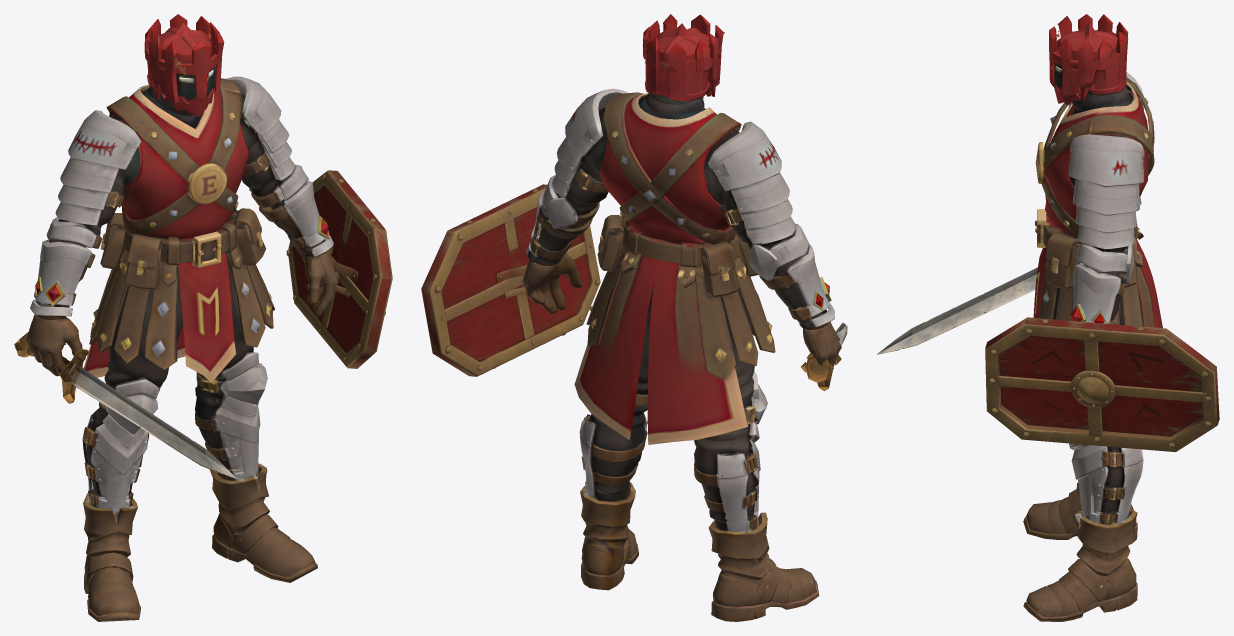
The model's file is eromash-para-meshy.glb.
3 views of the same model, side by side, from view 1: azimuth 30°, elevation 25°; view 2: azimuth 150°, elevation 25°; view 3: azimuth 270°, elevation 25° (orthographic). The views are drawn at different scales.
Visible parts, largest first — view 1: Eromash; view 2: Eromash; view 3: Eromash.
Boxes of the visible parts, <box> form: Eromash: <box>14,14,392,621</box>; Eromash: <box>421,14,847,621</box>; Eromash: <box>877,14,1219,621</box>.
Bounding box in the file's own units: 1.23 × 1.85 × 1.05.
4 materials, 3 textured.
